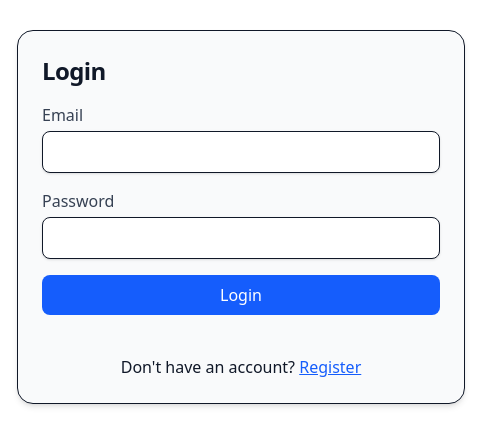
it: Login Page - Unit Tests › should show error message for invalid email format
Type "invalid@email" into the field labelled "Email".
click(241, 152); type("invalid@email")  # box 42,131 -> 440,173
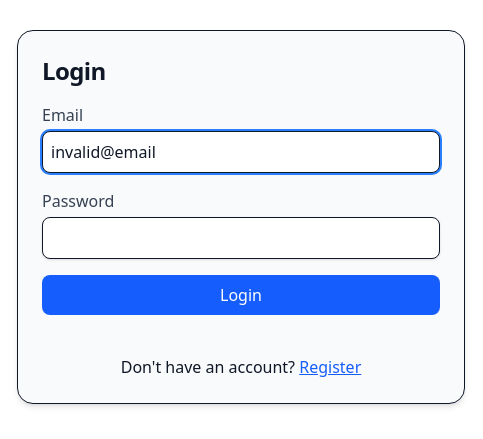
Type "somepassword" into the password field labelled "Password".
click(241, 238); type("somepassword")  # box 42,217 -> 440,259
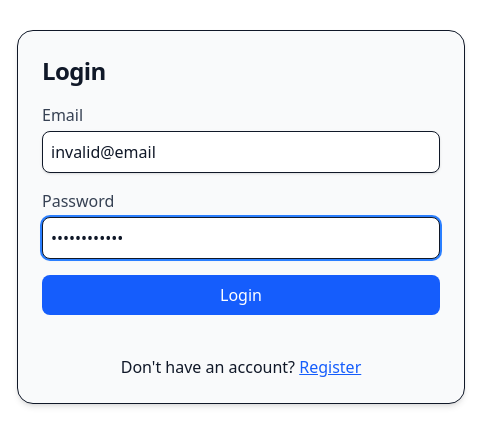
Click the button "Login".
click(241, 295)  # box 42,275 -> 440,315
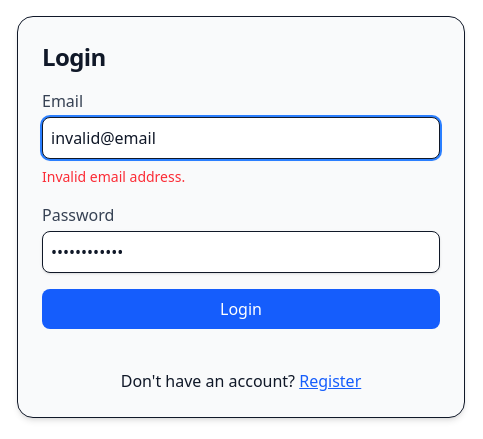
Result: the text "Invalid email address." is shown at 42,167 -> 185,186
